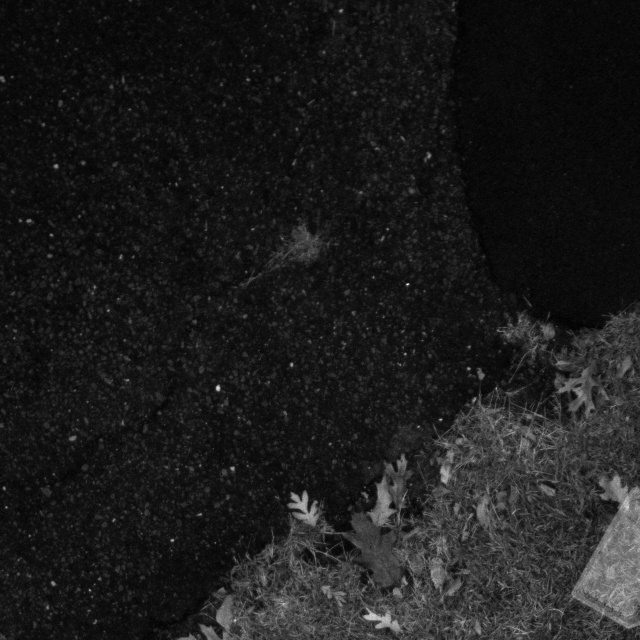container: (565, 477, 640, 639)
